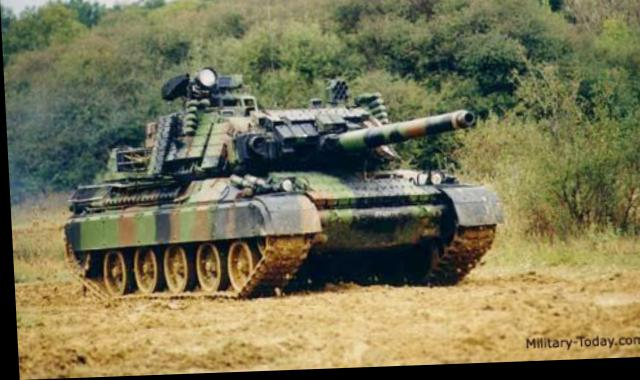tank: (56, 61, 492, 301)
